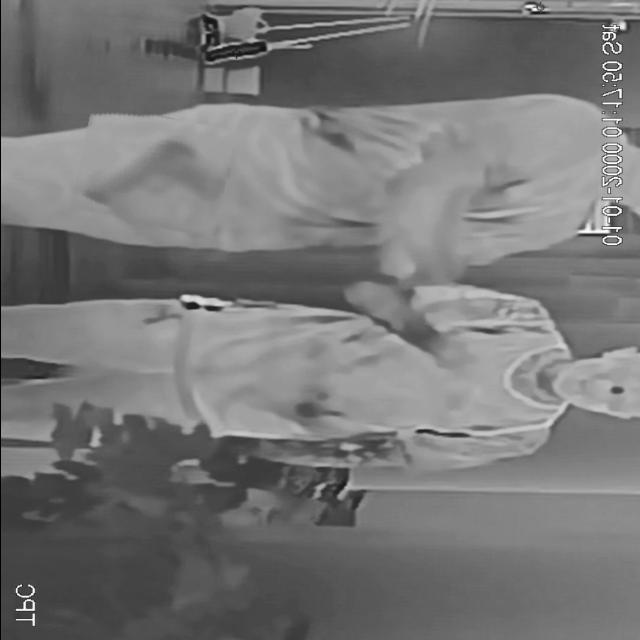Weapon: (74, 108, 230, 232)
